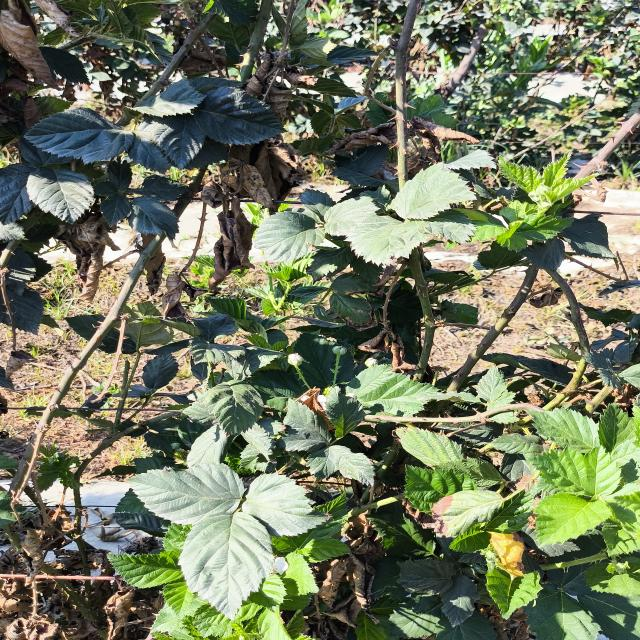boton: (287, 353, 303, 367), (364, 357, 378, 368), (332, 346, 347, 356)
